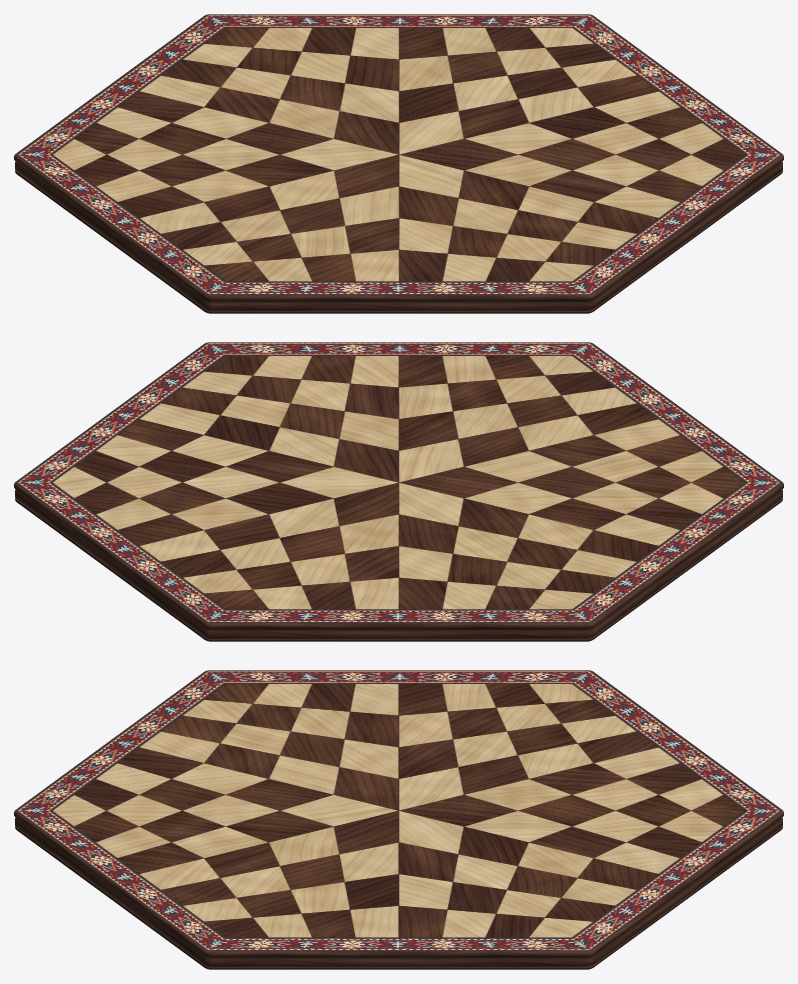
Rendered from three_player_board.glb.
3 views of the same model, one above another, from view 1: azimuth 30°, elevation 25°; view 2: azimuth 150°, elevation 25°; view 3: azimuth 270°, elevation 25° (orthographic).
Visible parts, largest first — view 1: Three-player chessboard; view 2: Three-player chessboard; view 3: Three-player chessboard.
Part boxes in pixels (x1,y1,x2,y2): Three-player chessboard: (14,14,783,313); Three-player chessboard: (14,342,783,641); Three-player chessboard: (14,670,783,969).
Bounding box in the file's own units: 4.07 × 0.132 × 4.69.
2 materials, 2 textured.
